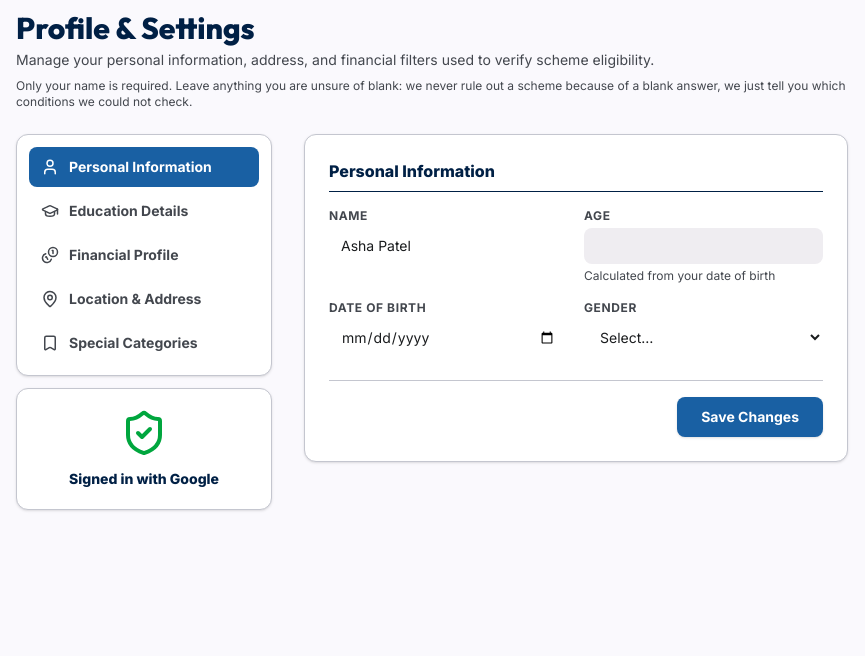
Profile form: when the save fails › shows the fields the server objected to, with its reasons
The width and height of the screenshot is (865, 656).
Click the button "Save Changes" at (750, 417), box [677,397,823,437]
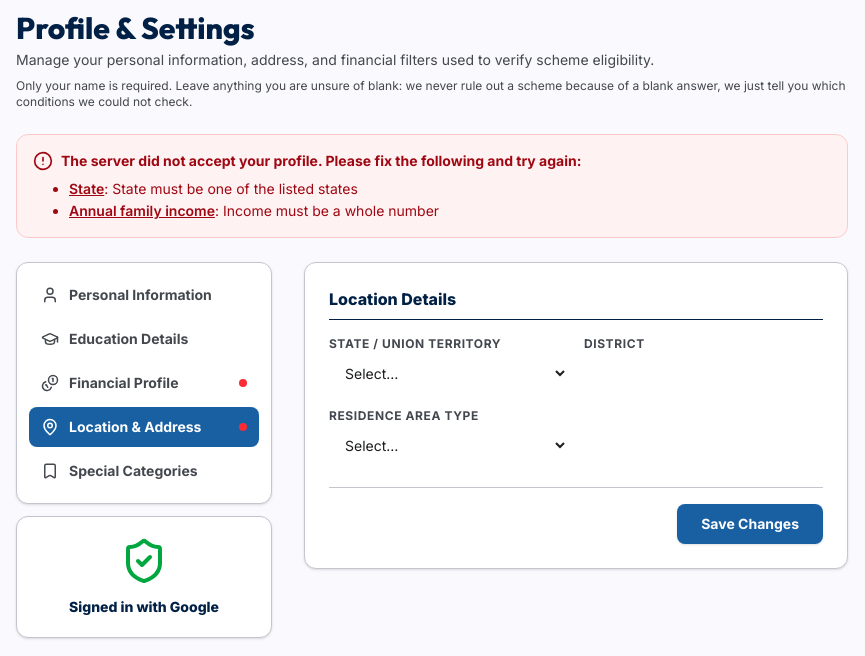
expect the message shows "The server did not accept your profile": met, box [61,152,581,169]
